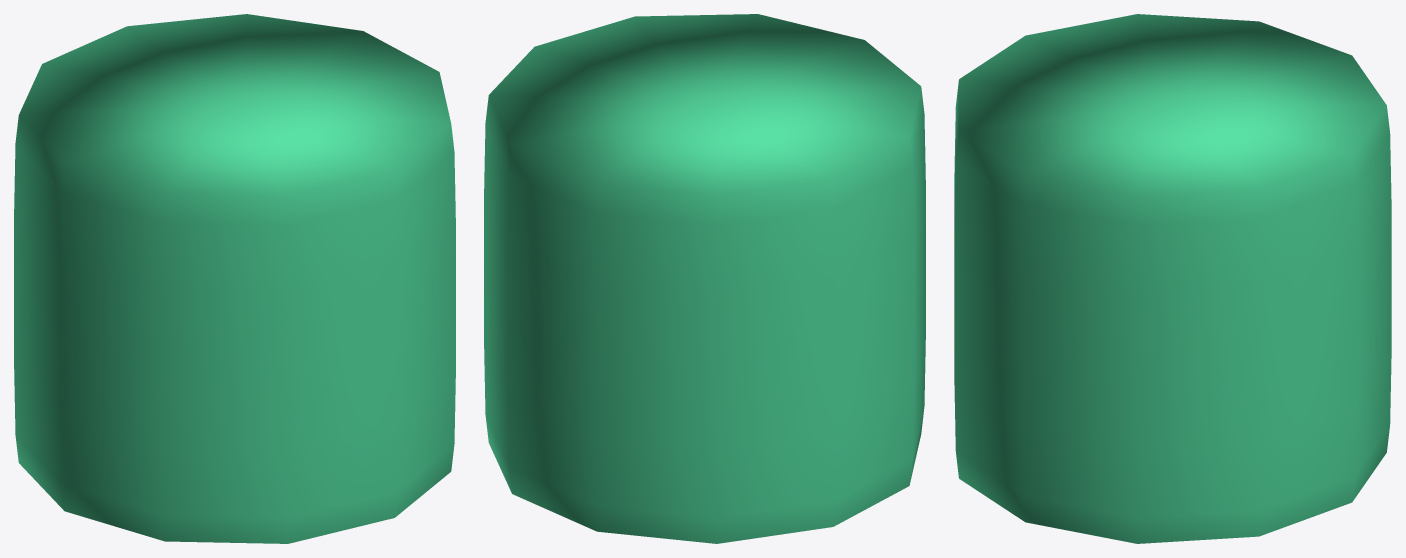
Rendered from Shadow_Plinth_2.fbx.
3 views of the same model, side by side, from view 1: azimuth 30°, elevation 25°; view 2: azimuth 150°, elevation 25°; view 3: azimuth 270°, elevation 25° (orthographic).
Visible parts, largest first — view 1: Circle.007; view 2: Circle.007; view 3: Circle.007.
Part boxes in pixels (box(x1,y1,x2,y2)): Circle.007: box(14, 14, 455, 543); Circle.007: box(484, 14, 925, 543); Circle.007: box(954, 14, 1391, 543).
Size of the model in its own units: 34.04 by 29.54 by 33.7.
